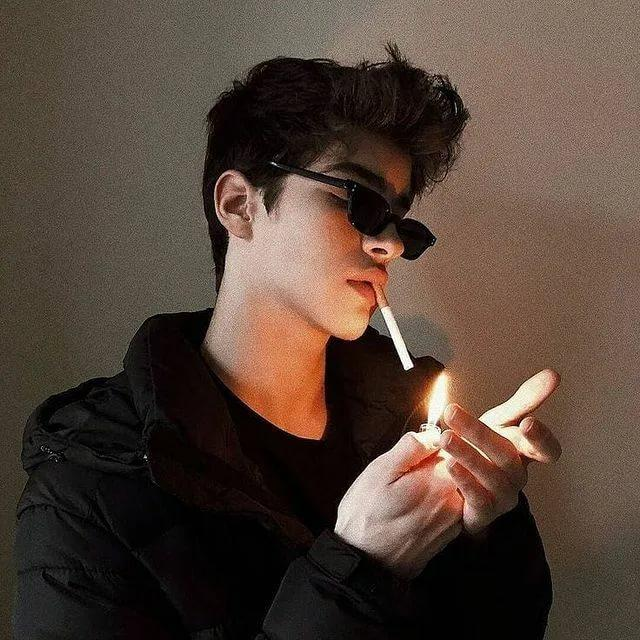cigarette: (363, 279, 422, 375)
